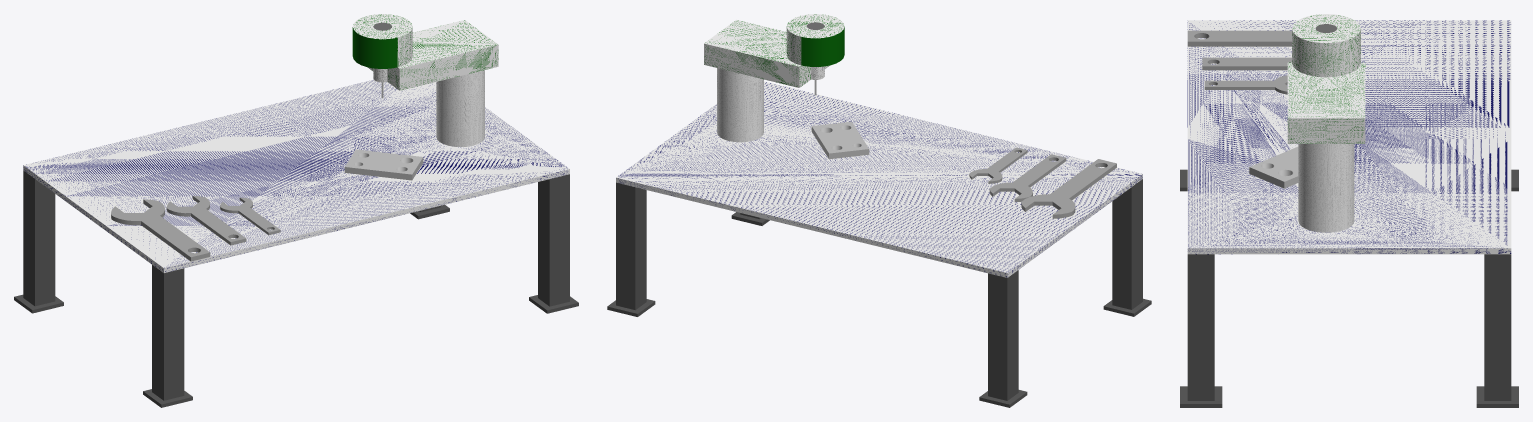
The model's file is Workbench.dae.
The picture shows the model from 3 angles, left to right: view 1: azimuth 30°, elevation 25°; view 2: azimuth 150°, elevation 25°; view 3: azimuth 270°, elevation 25°; orthographic projection. The views are drawn at different scales.
Visible parts, largest first — view 1: SketchUp (×3), group_0, group_4, group_6, group_2, group_7, group_1, group_3; view 2: SketchUp (×3), group_6, group_5, group_0, group_2, group_7, group_1, group_3; view 3: SketchUp (×3), group_4 (×2), group_5 (×2), group_2, group_7, group_1, group_3.
Part boxes in pixels (x1,y1,x2,y2): SketchUp (×3): (23,14,569,272); group_0: (152,265,184,400); group_4: (538,174,569,306); group_6: (23,170,55,306); group_2: (111,199,210,261); group_7: (344,149,423,180); group_1: (166,196,246,245); group_3: (220,197,280,235); SketchUp (×3): (616,14,1142,277); group_6: (988,270,1018,400); group_5: (616,182,646,310); group_0: (1112,179,1142,309); group_2: (1021,159,1116,218); group_7: (811,121,869,159); group_1: (989,154,1066,202); group_3: (969,147,1027,183); SketchUp (×3): (1187,14,1511,254); group_4 (×2): (1180,254,1222,407); group_5 (×2): (1476,254,1518,407); group_2: (1187,30,1291,46); group_7: (1249,146,1298,188); group_1: (1202,57,1291,70); group_3: (1204,75,1287,94).
Bounding box in the file's own units: 202 × 124 × 123.
